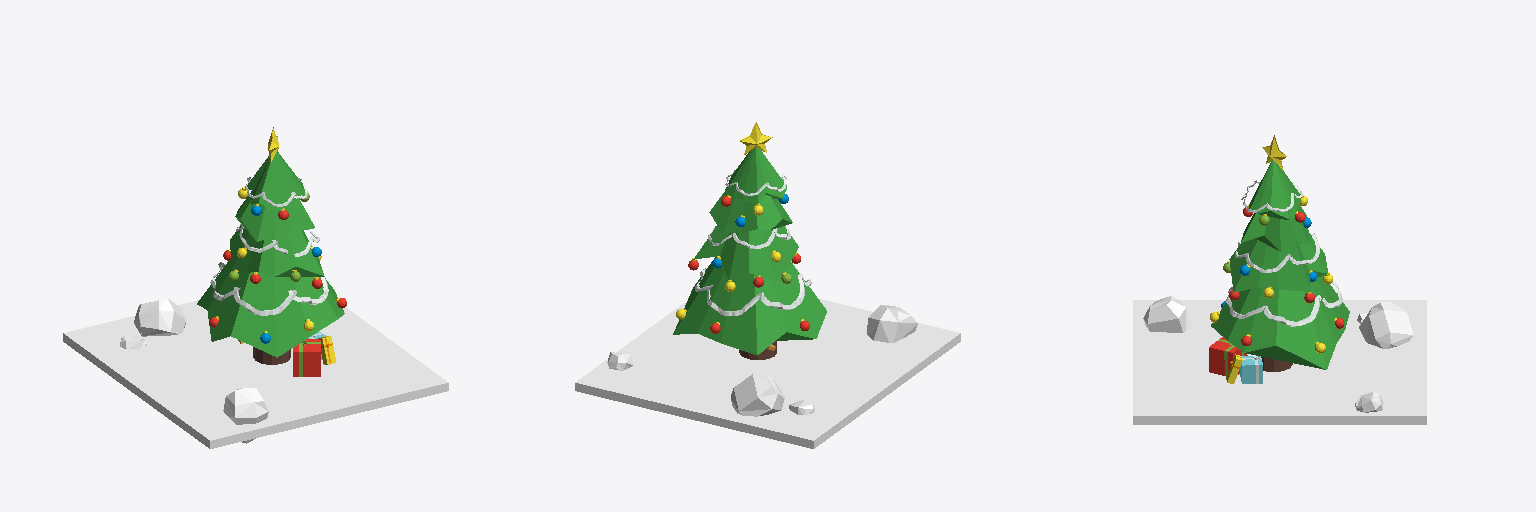
The model's file is tree.obj.
3 views of the same model, side by side, from view 1: azimuth 30°, elevation 25°; view 2: azimuth 150°, elevation 25°; view 3: azimuth 270°, elevation 25° (orthographic).
Visible parts, largest first — view 1: group[number redacted], group[number redacted], group[number redacted], group[number redacted], group[number redacted]; view 2: group[number redacted], group[number redacted], group[number redacted], group[number redacted]; view 3: group[number redacted], group[number redacted], group[number redacted], group[number redacted], group[number redacted], group[number redacted].
Boxes of the visible parts, <box> form: group[number redacted]: <box>63,151,448,448</box>; group[number redacted]: <box>134,298,185,336</box>; group[number redacted]: <box>223,388,268,443</box>; group[number redacted]: <box>293,339,320,376</box>; group[number redacted]: <box>210,262,328,315</box>; group[number redacted]: <box>575,148,960,448</box>; group[number redacted]: <box>731,374,784,416</box>; group[number redacted]: <box>867,305,917,342</box>; group[number redacted]: <box>695,268,811,315</box>; group[number redacted]: <box>1133,159,1426,424</box>; group[number redacted]: <box>1359,302,1412,348</box>; group[number redacted]: <box>1143,296,1191,332</box>; group[number redacted]: <box>1209,337,1247,376</box>; group[number redacted]: <box>1226,279,1342,326</box>; group[number redacted]: <box>1240,356,1262,383</box>.
Size of the model in its own units: 1.76 by 1.81 by 1.88.